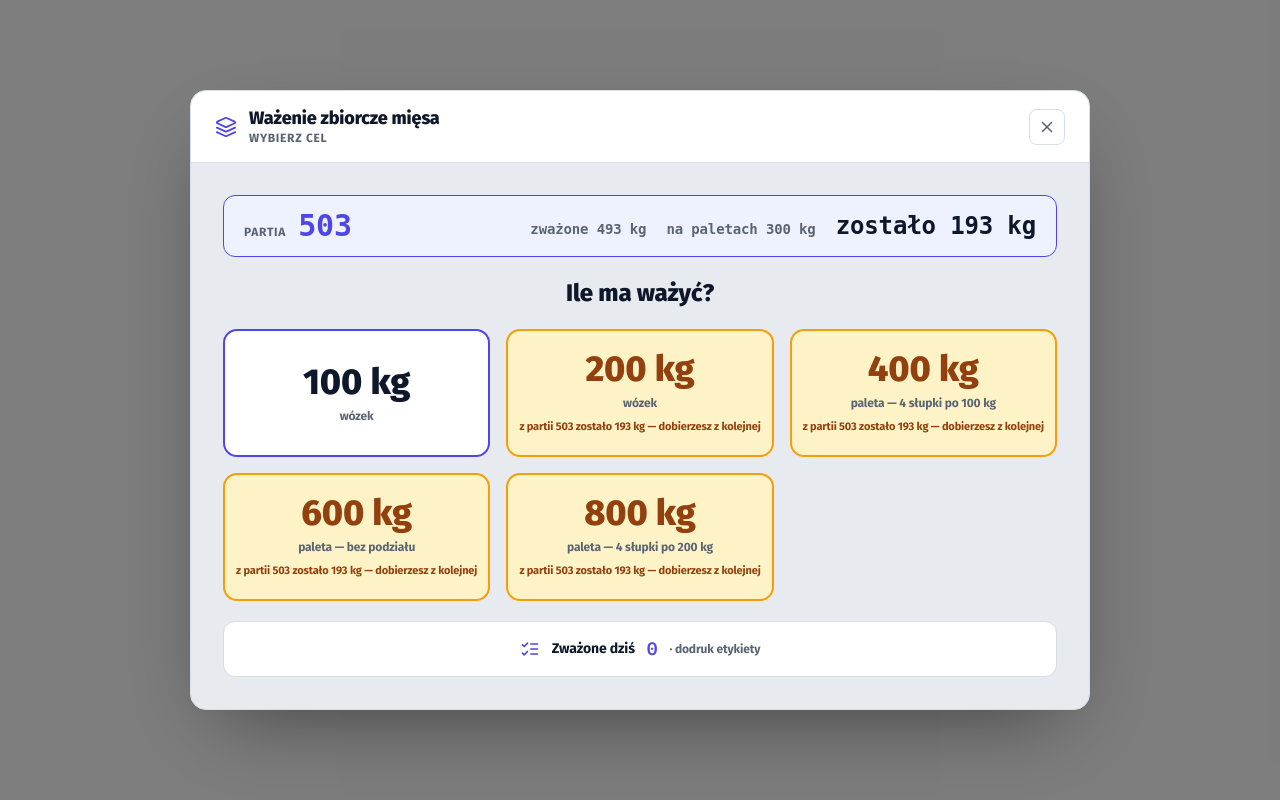
ważenie zbiorcze — widoczny strażnik partii › wybór celu ponad resztę wymaga POTWIERDZENIA, zanim ruszy ważenie
The width and height of the screenshot is (1280, 800).
Check: the text "503" is shown, box left=298, top=208, right=352, bottom=244
Click the button that starts with "400 kg" at (923, 393), box left=790, top=329, right=1057, bottom=457
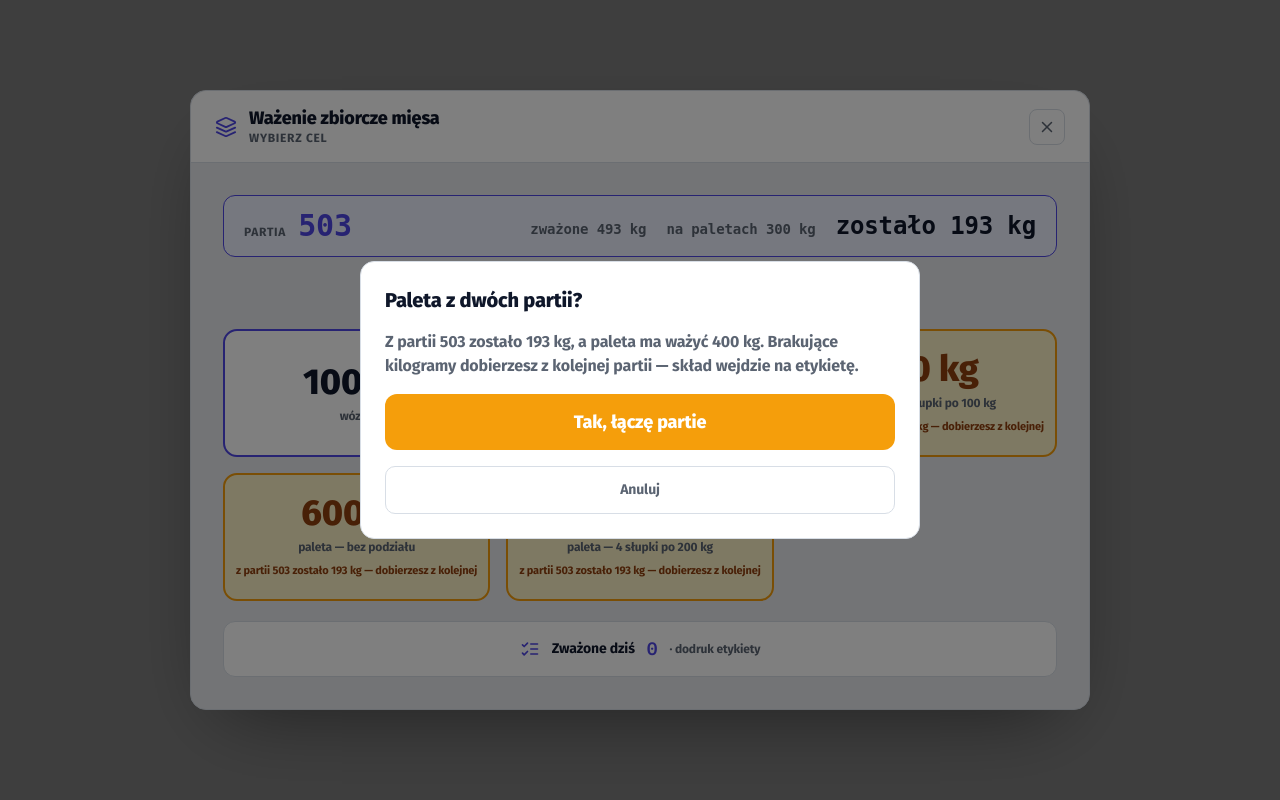
Check: the text with test id "bw-cel-pytanie" shows "193", box left=526, top=332, right=550, bottom=351
Click the button with test id "bw-cel-potwierdz" at (640, 422), box left=385, top=394, right=895, bottom=450
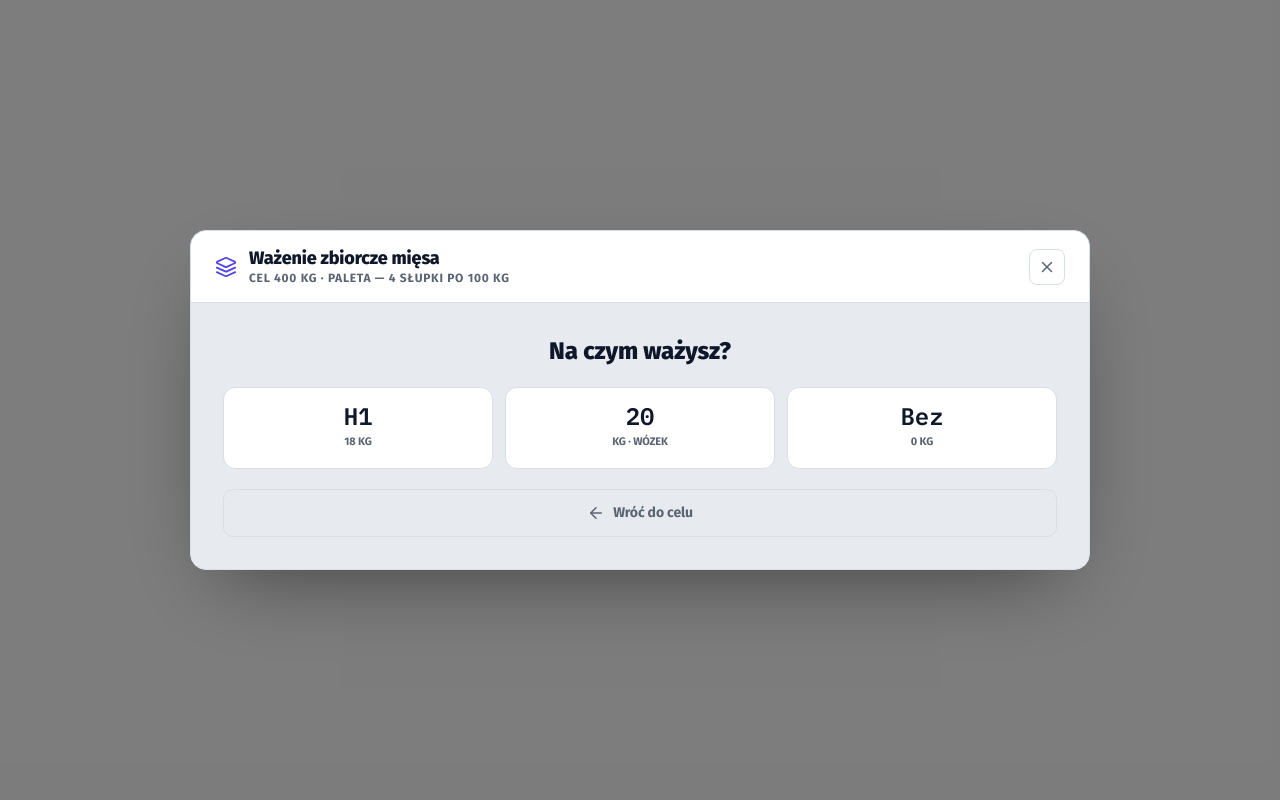
Click the button "20 kg · wózek" at (640, 428), box left=505, top=387, right=775, bottom=469
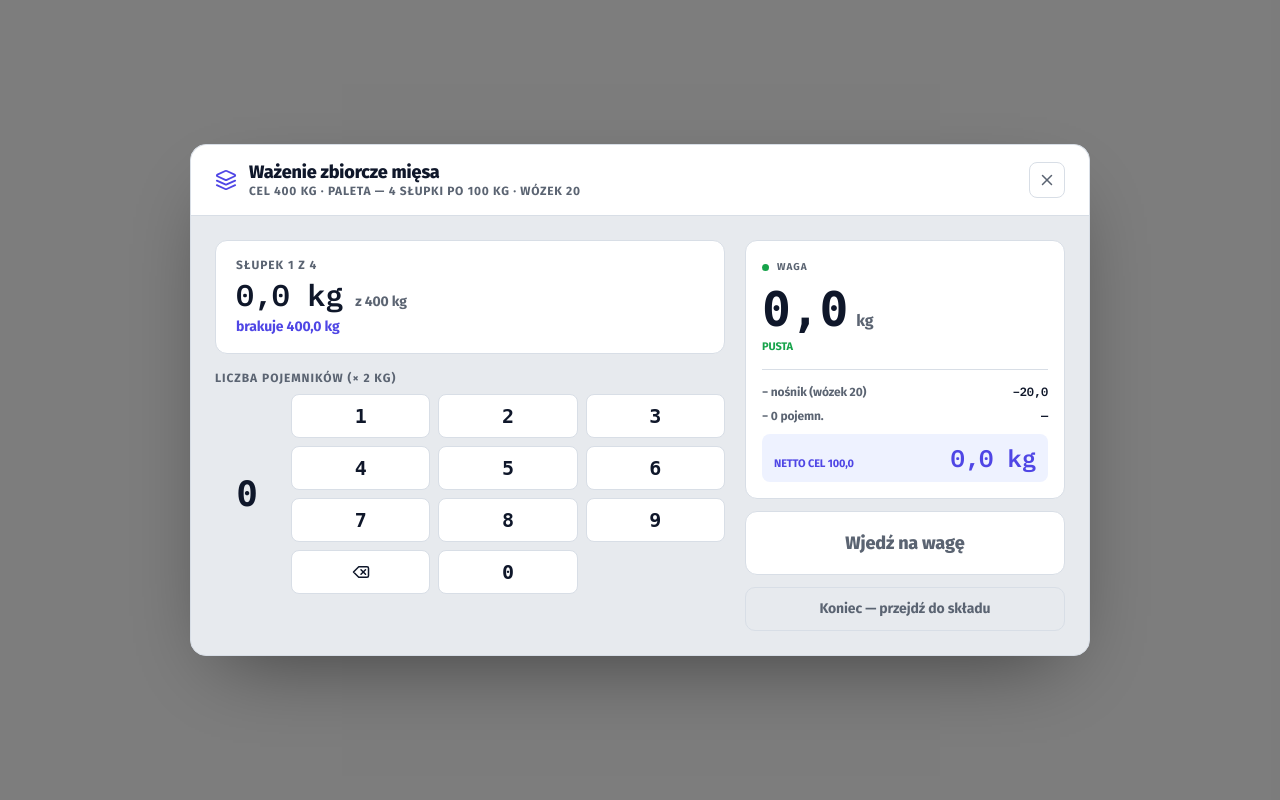
Check: the button with test id "bw-dodaj" is shown, box left=745, top=511, right=1065, bottom=575
